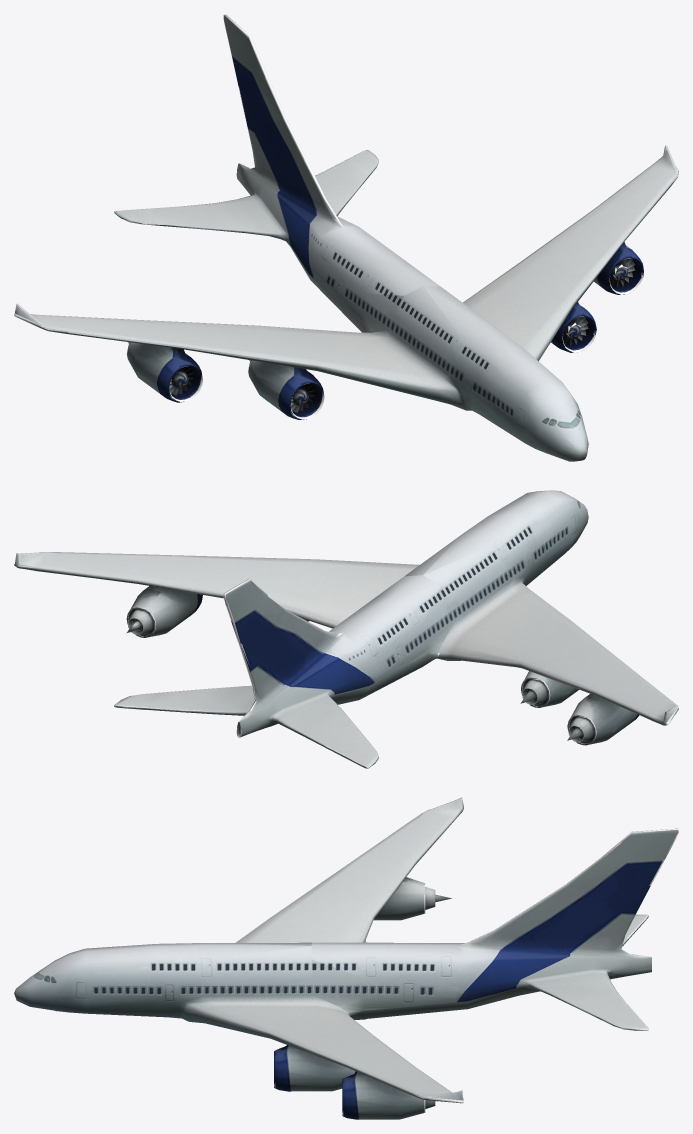
The model's file is airplane.dae.
3 views of the same model, one above another, from view 1: azimuth 30°, elevation 25°; view 2: azimuth 150°, elevation 25°; view 3: azimuth 270°, elevation 25° (orthographic). The views are drawn at different scales.
Parts seen in each view (by area): view 1: airplane_0; view 2: airplane_0; view 3: airplane_0.
Boxes of the visible parts, left/top/right/bottom form: airplane_0: left=14, top=14, right=678, bottom=461; airplane_0: left=14, top=490, right=678, bottom=768; airplane_0: left=14, top=797, right=678, bottom=1119.
Size of the model in its own units: 2363 by 2247 by 741.
2 materials, 1 textured.
